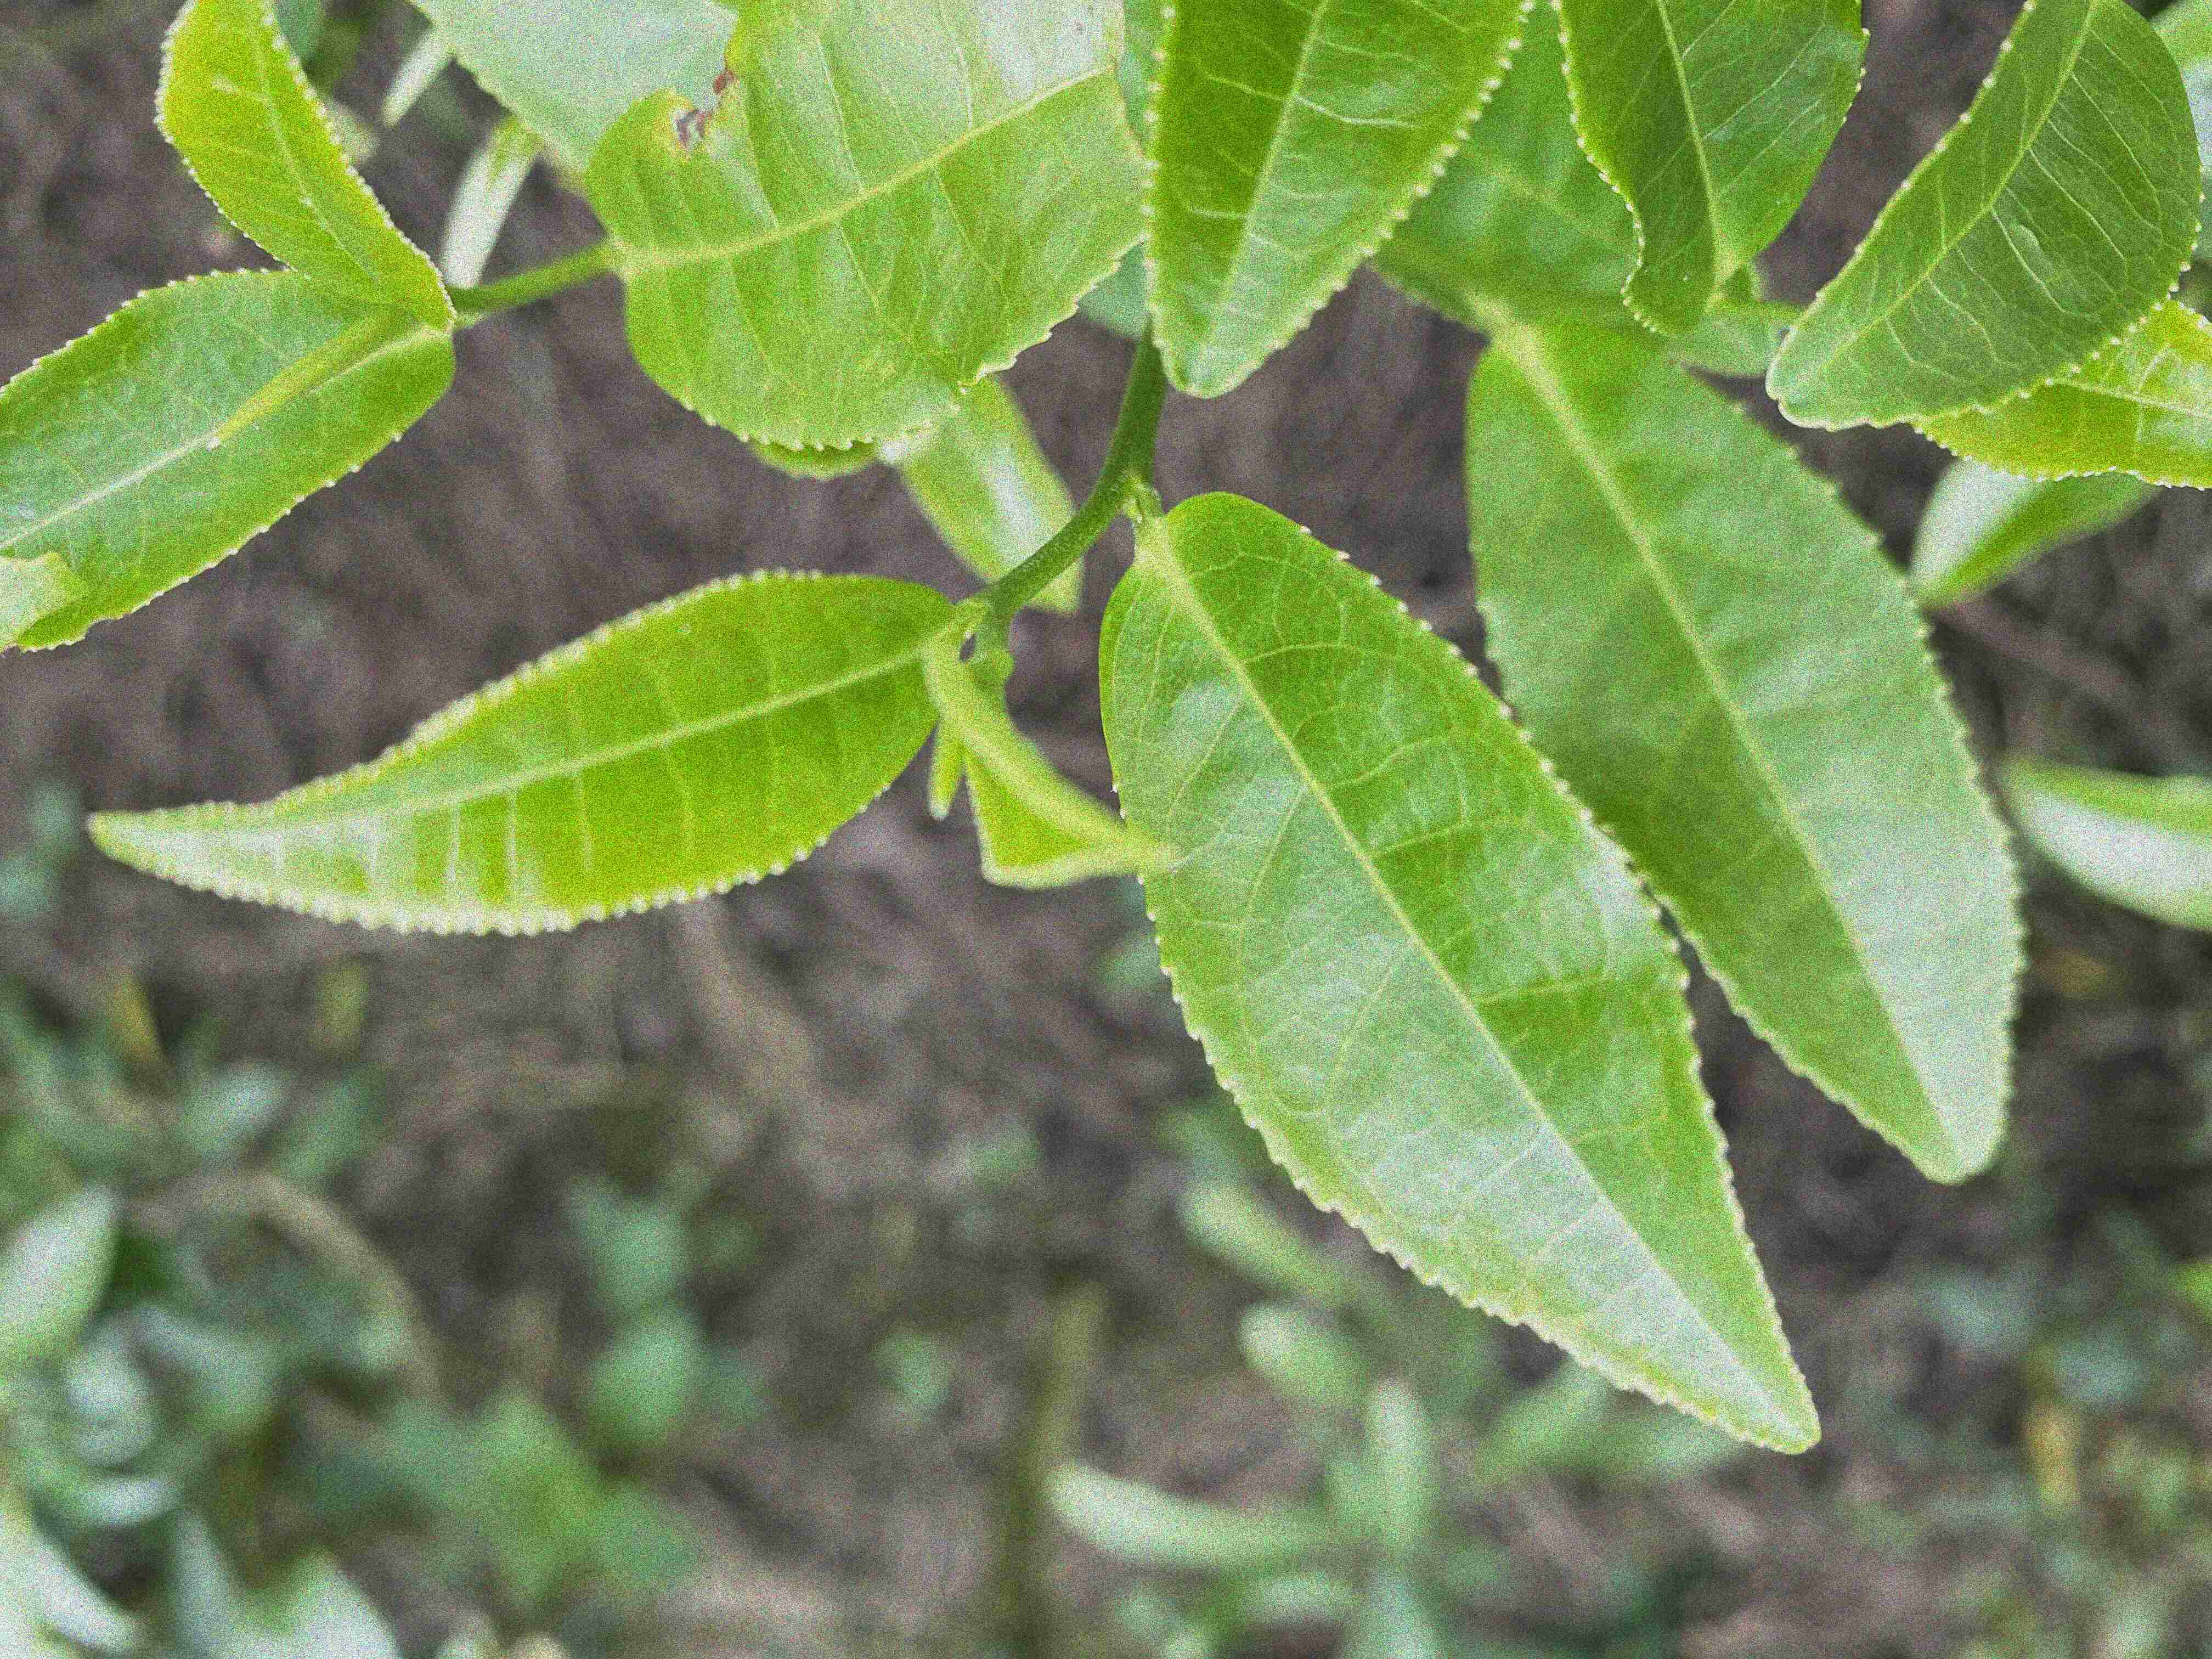chihuo_high: (580, 2, 1148, 451)
healthy: (1103, 490, 1820, 1452), (1460, 321, 2029, 1185), (84, 568, 951, 941), (1764, 3, 2203, 434), (1141, 3, 1538, 399), (1548, 5, 1874, 340), (150, 2, 455, 331)
